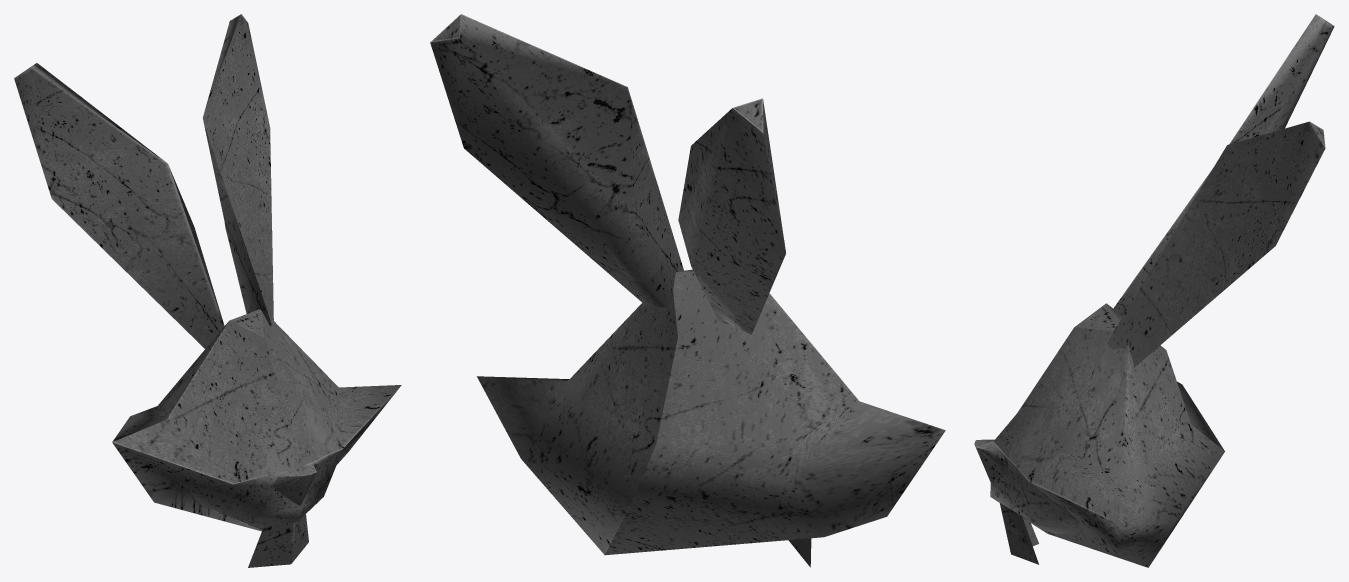
The model's file is philosophersStone.fbx.
3 views of the same model, side by side, from view 1: azimuth 30°, elevation 25°; view 2: azimuth 150°, elevation 25°; view 3: azimuth 270°, elevation 25° (orthographic). The views are drawn at different scales.
Visible parts, largest first — view 1: philosophersStone, buckteeth; view 2: philosophersStone; view 3: philosophersStone, buckteeth.
Boxes of the visible parts, x1,y1,x2,y2 form: philosophersStone: [14, 14, 401, 531]; buckteeth: [248, 514, 308, 567]; philosophersStone: [430, 14, 945, 555]; philosophersStone: [974, 14, 1334, 567]; buckteeth: [999, 503, 1038, 564].
Bounding box in the file's own units: 184 × 253 × 170.
